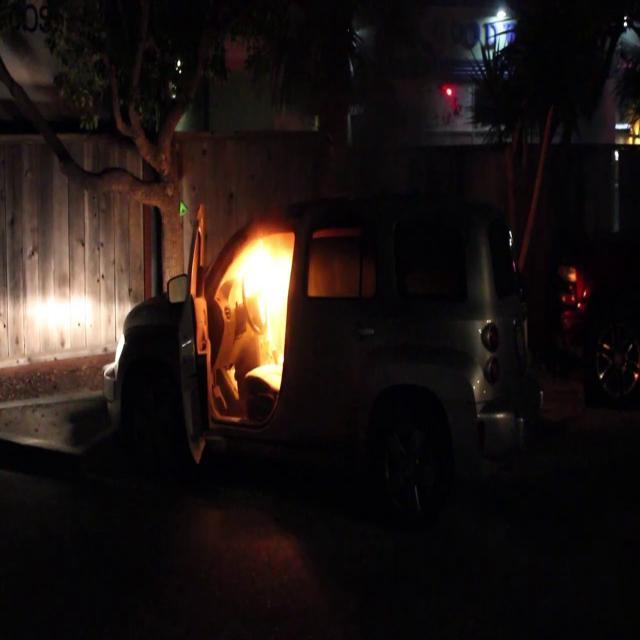Fire: (224, 228, 296, 344)
